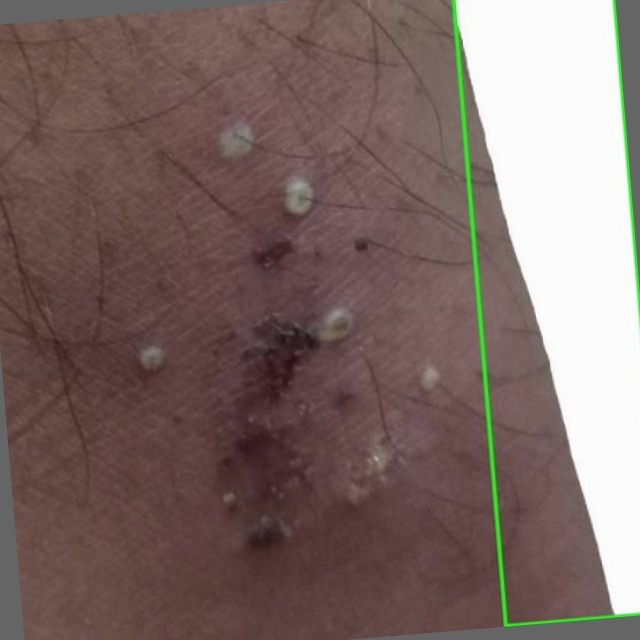Eczema: (453, 0, 639, 625)
